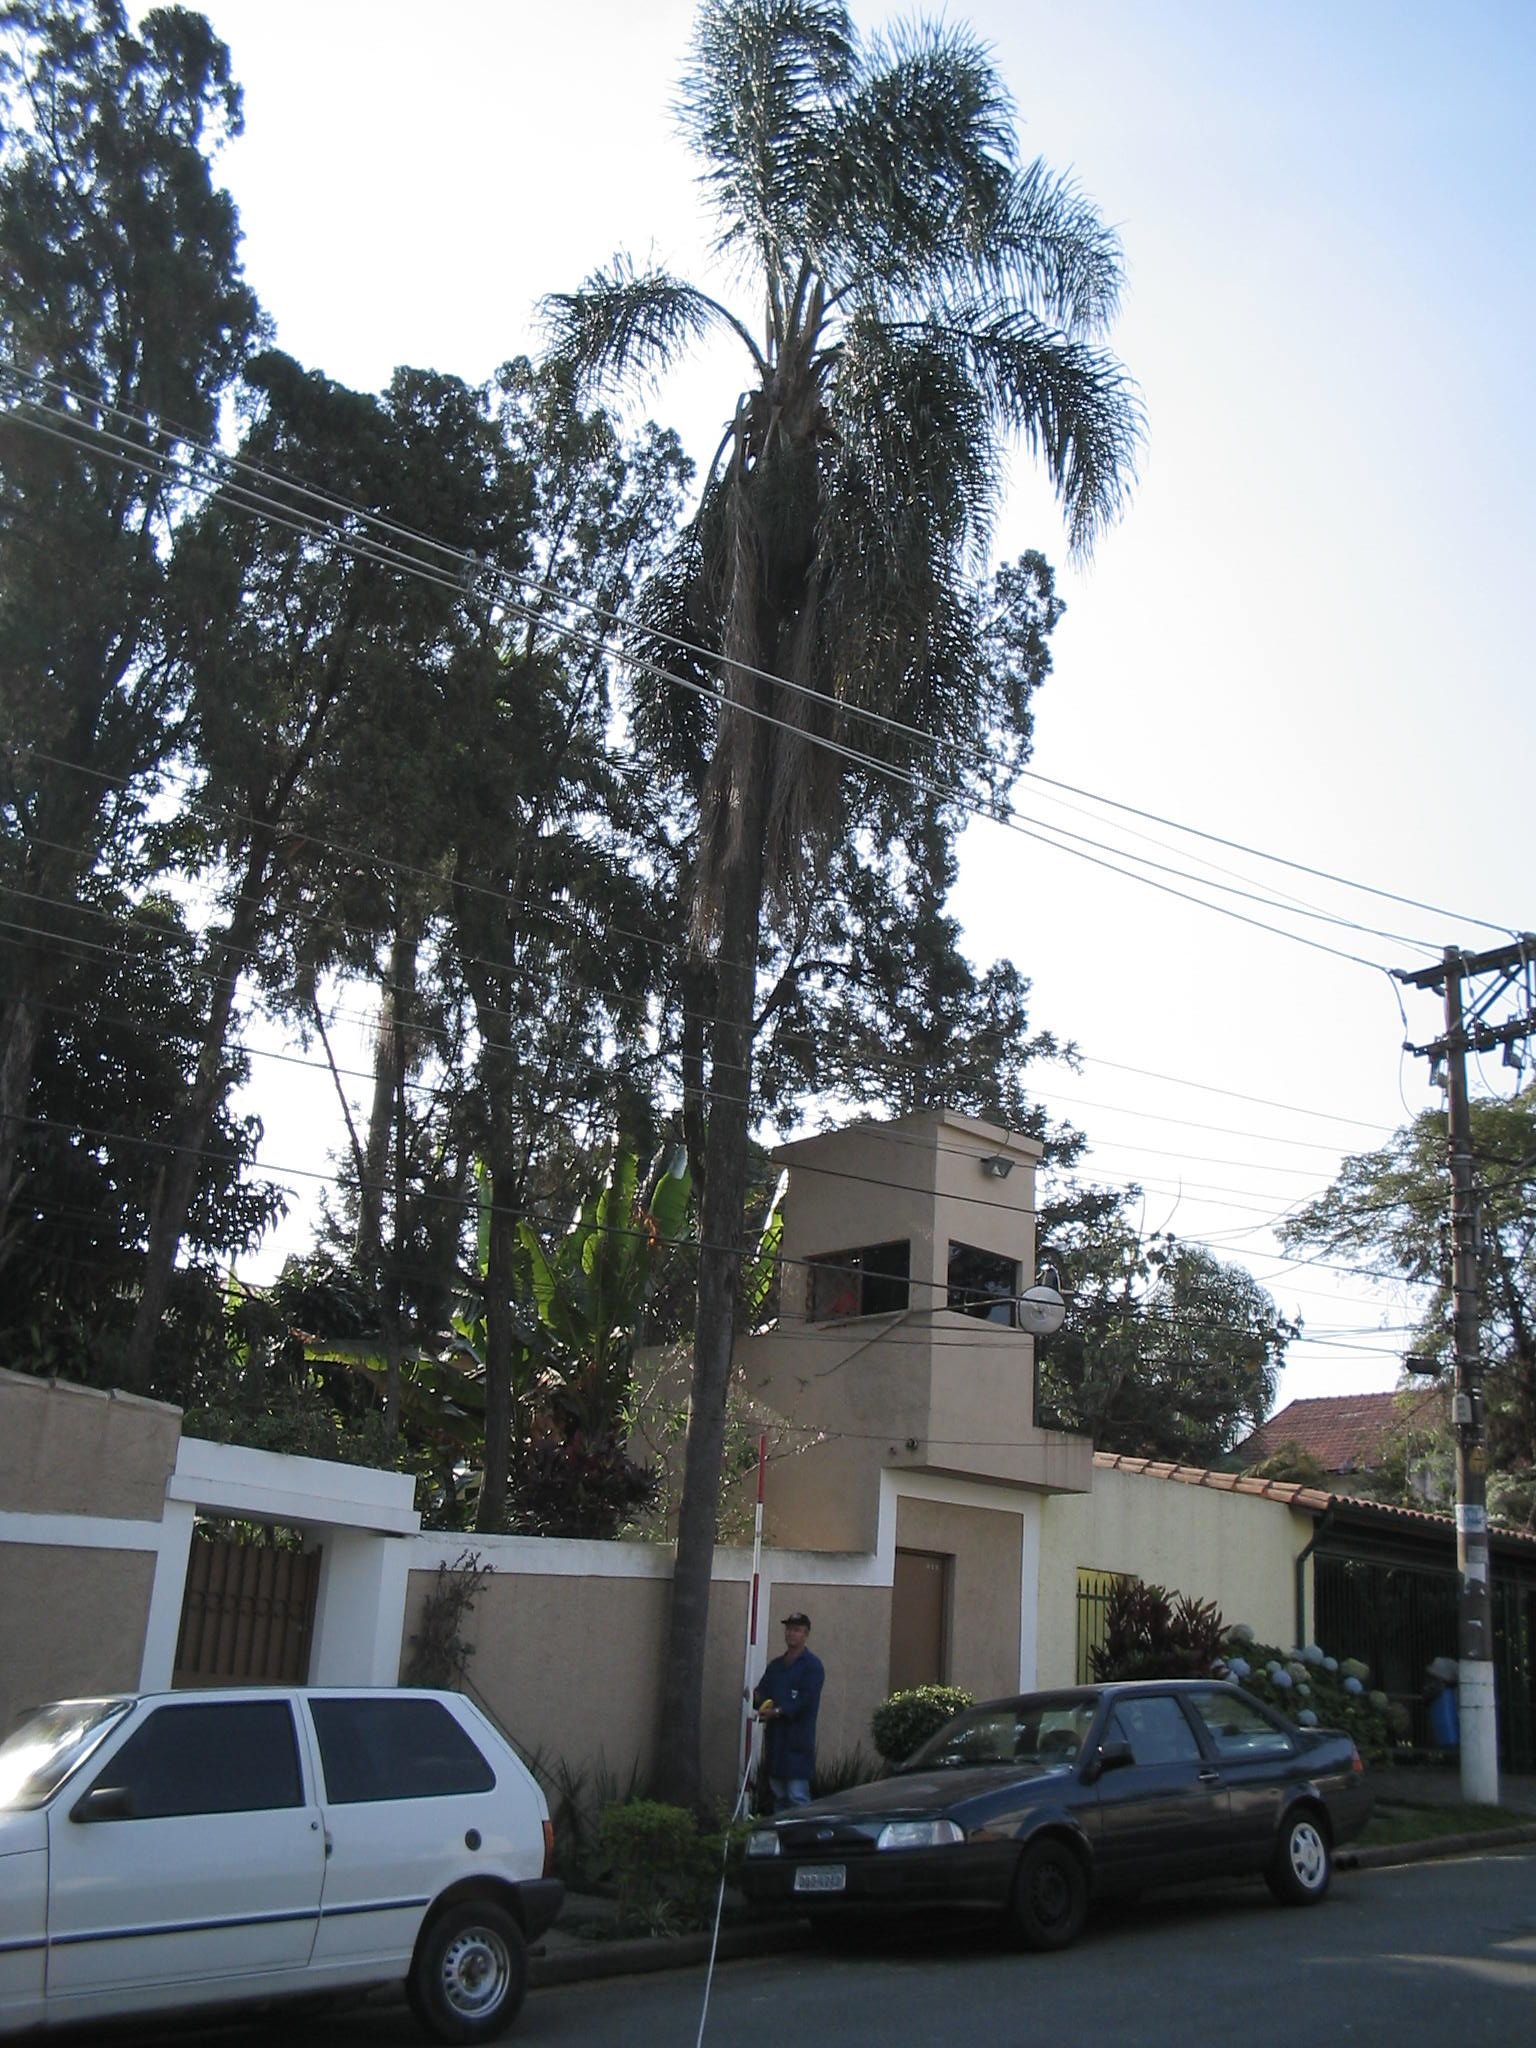crown: (536, 8, 1137, 961)
stem: (636, 918, 750, 1882)
stick: (726, 1435, 799, 1866)
tree: (536, 8, 1142, 1887)
